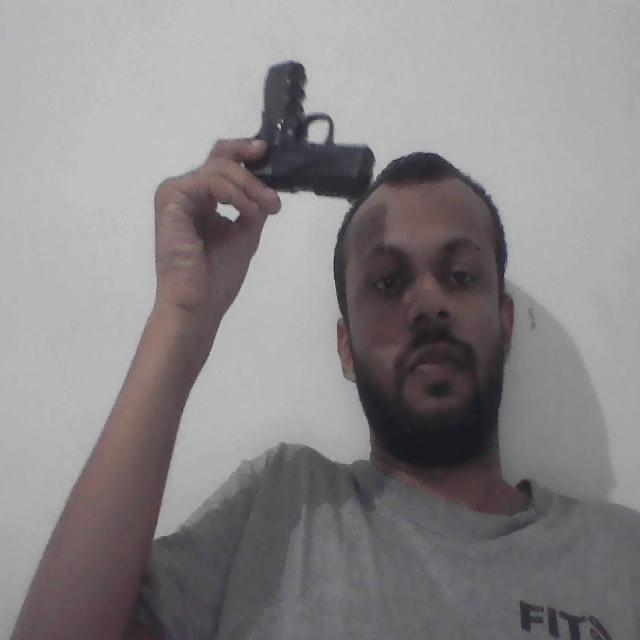handgun: (238, 55, 377, 204)
